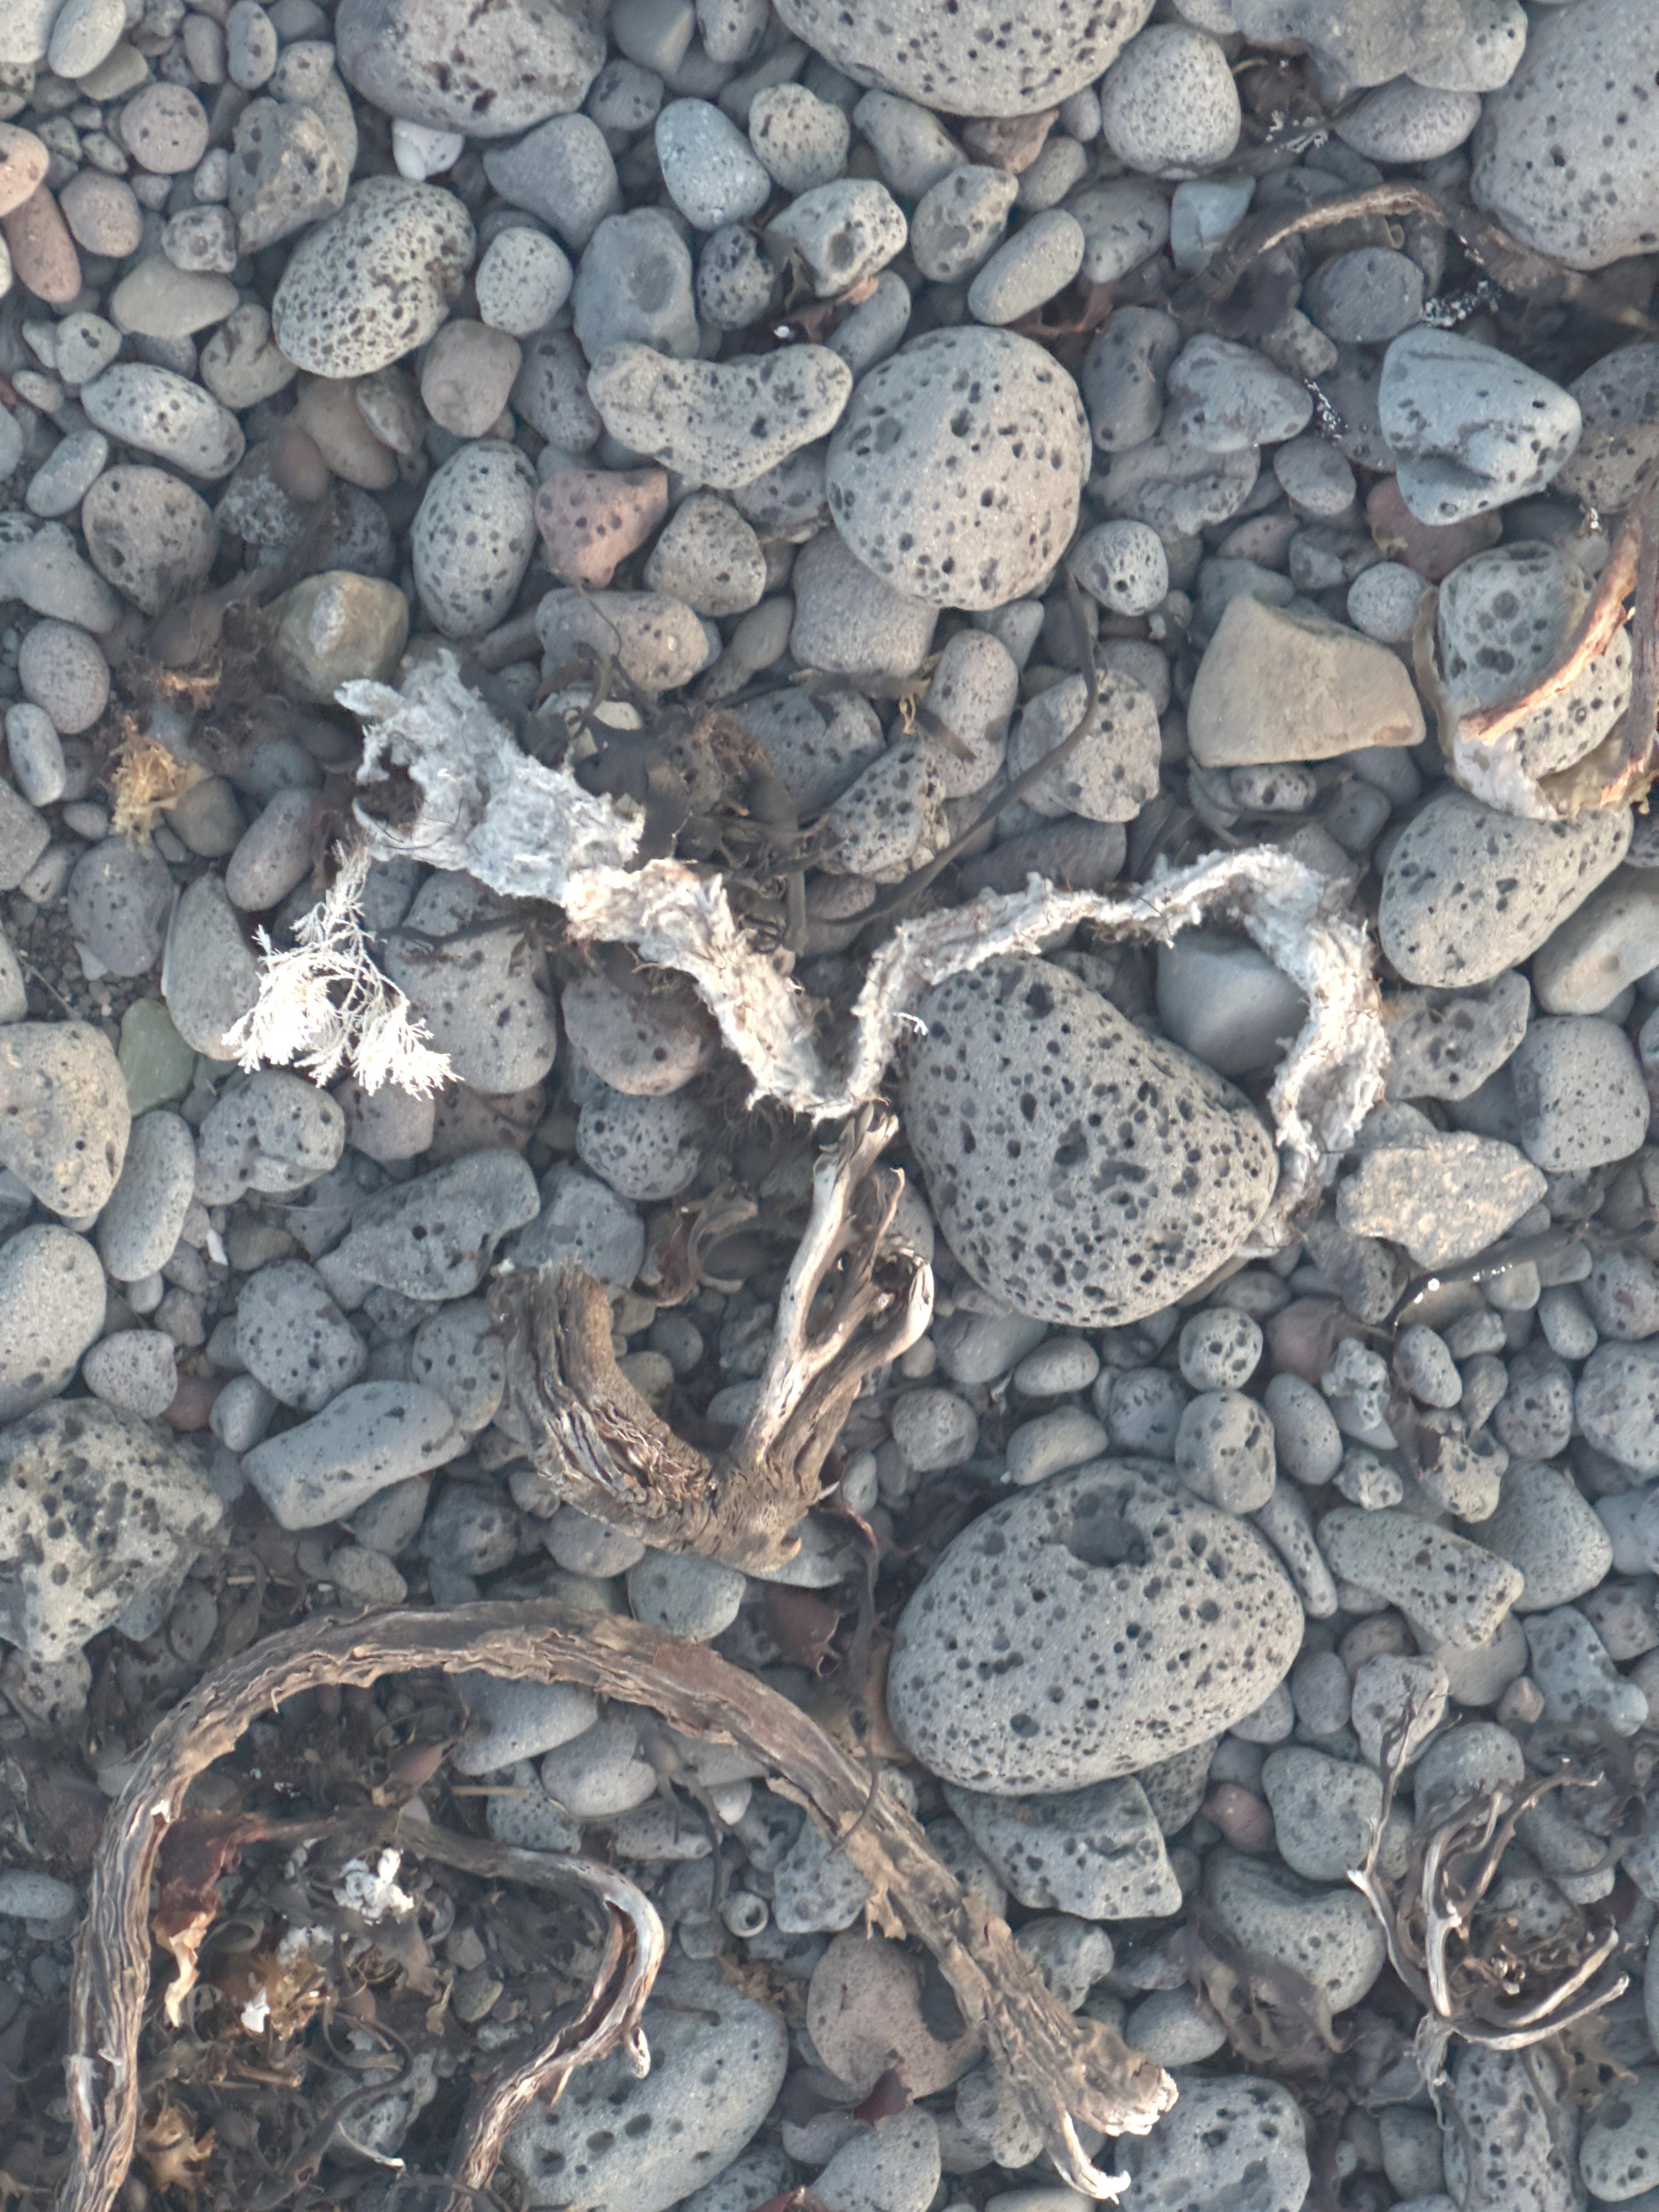trash: (225, 652, 1080, 1119), (1106, 864, 1383, 1210)
